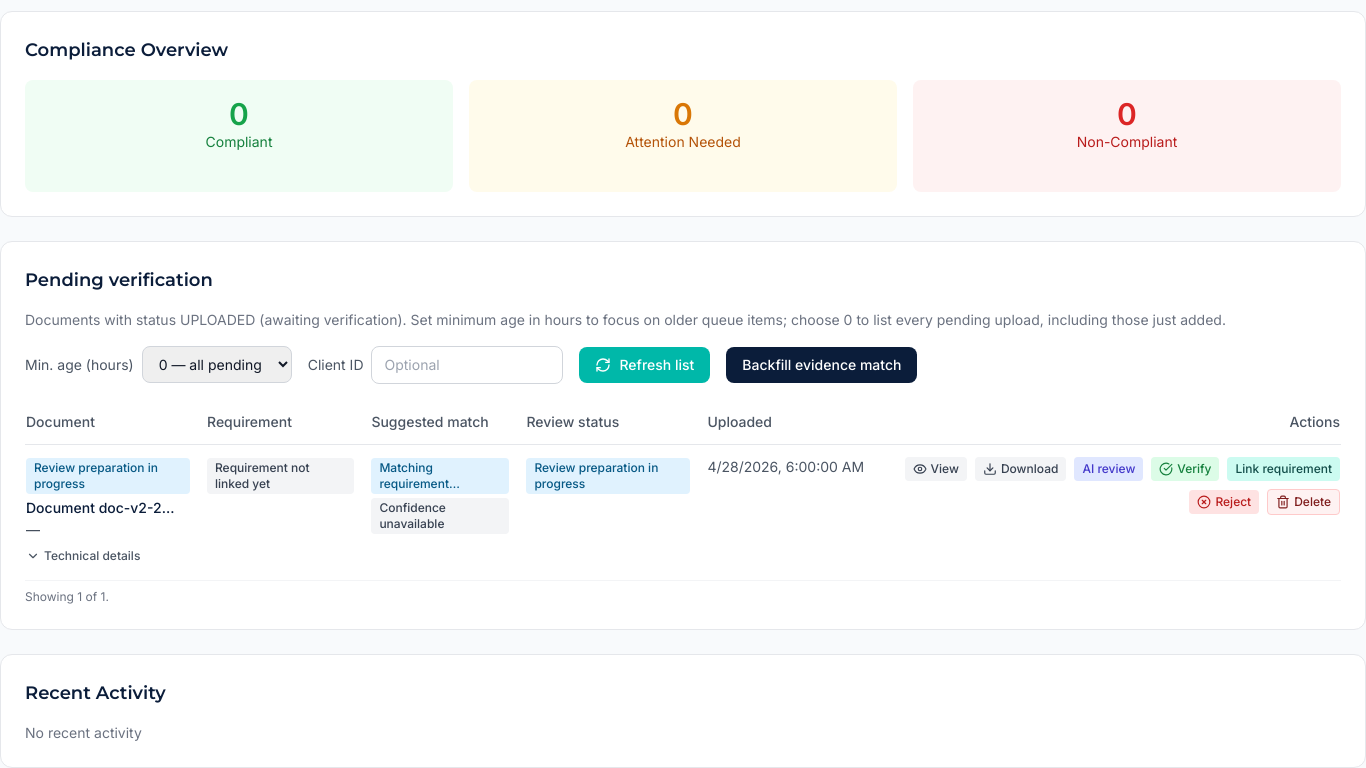
Test: AdminDashboard pending verification queue › does not show irrelevant verification helper links for unsupported requirement types
(page scrolled)
Click the button with test id "ai-review-doc-doc-v2-2": (1109, 468) [1074,456,1143,480]
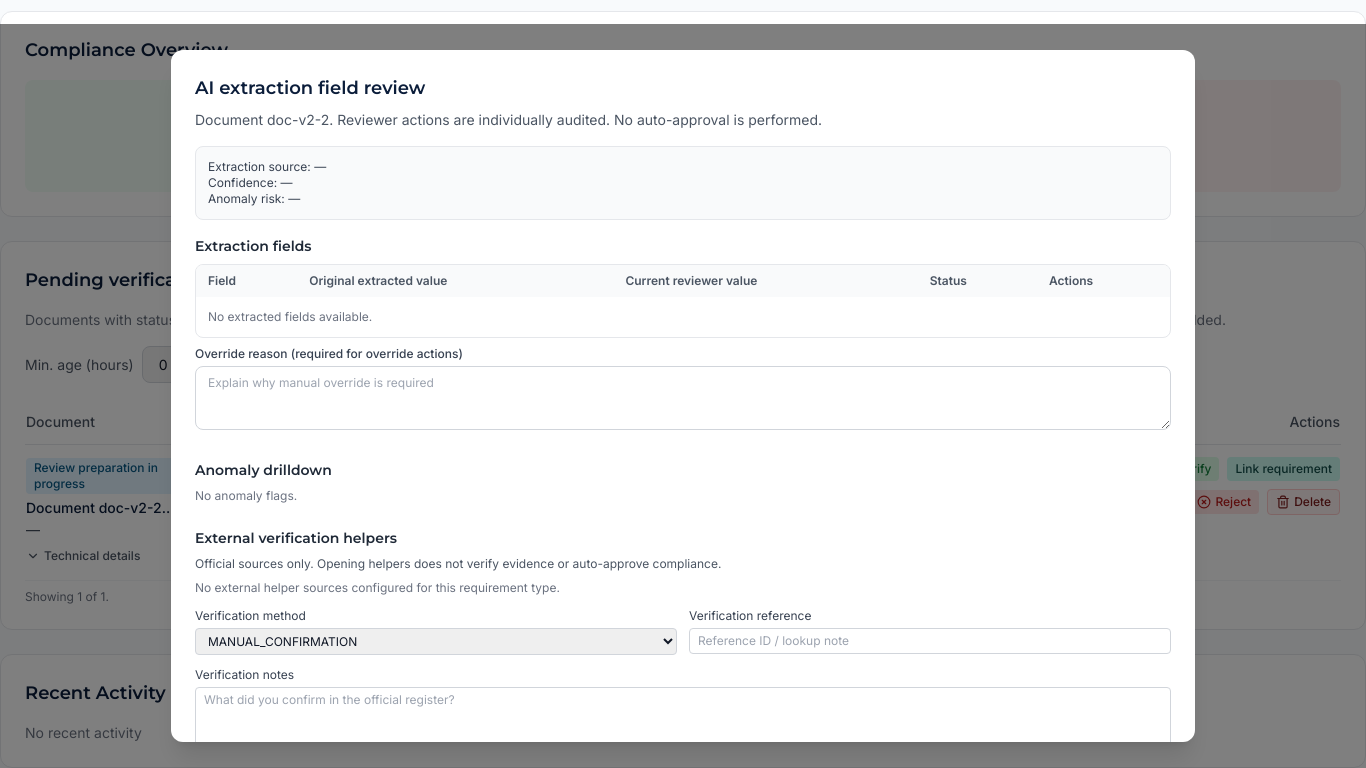
expect the dropdown with test id "external-verification-method" is shown: met, box [195,628,677,655]
expect the text "No external helper sources configured" is shown: met, box [195,580,560,595]
